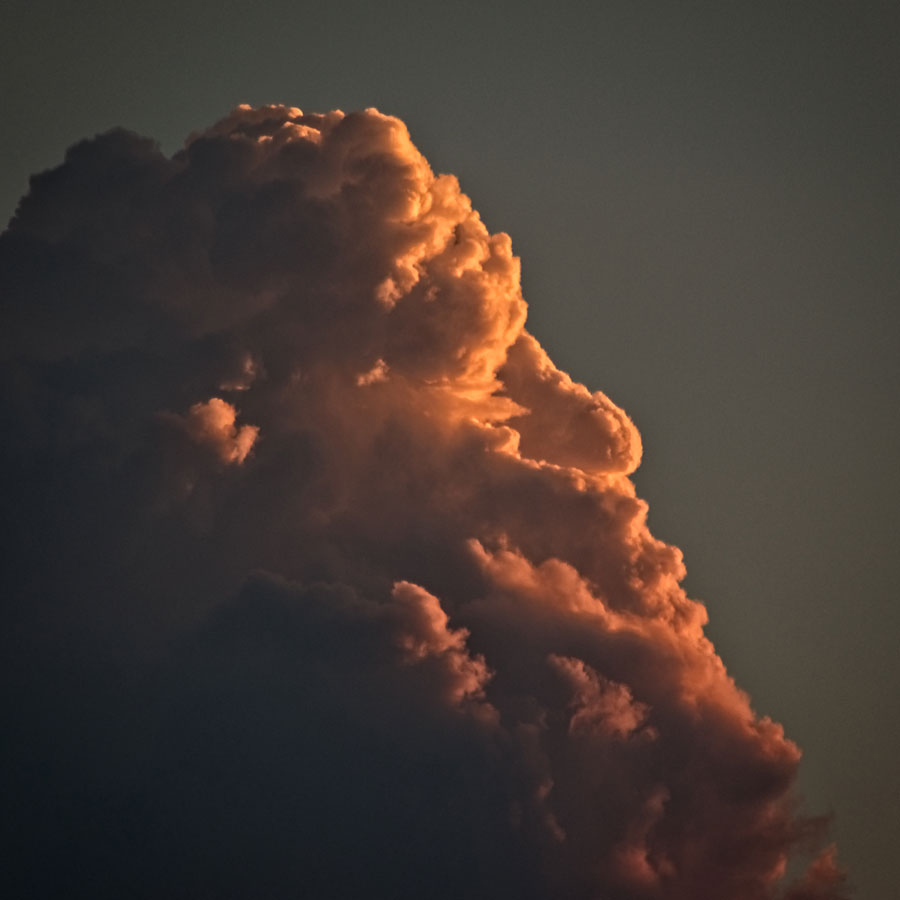Cumulus: (22, 66, 821, 890)
